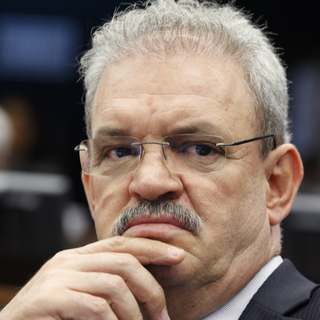eye: (178, 138, 227, 162), (101, 140, 145, 164)
